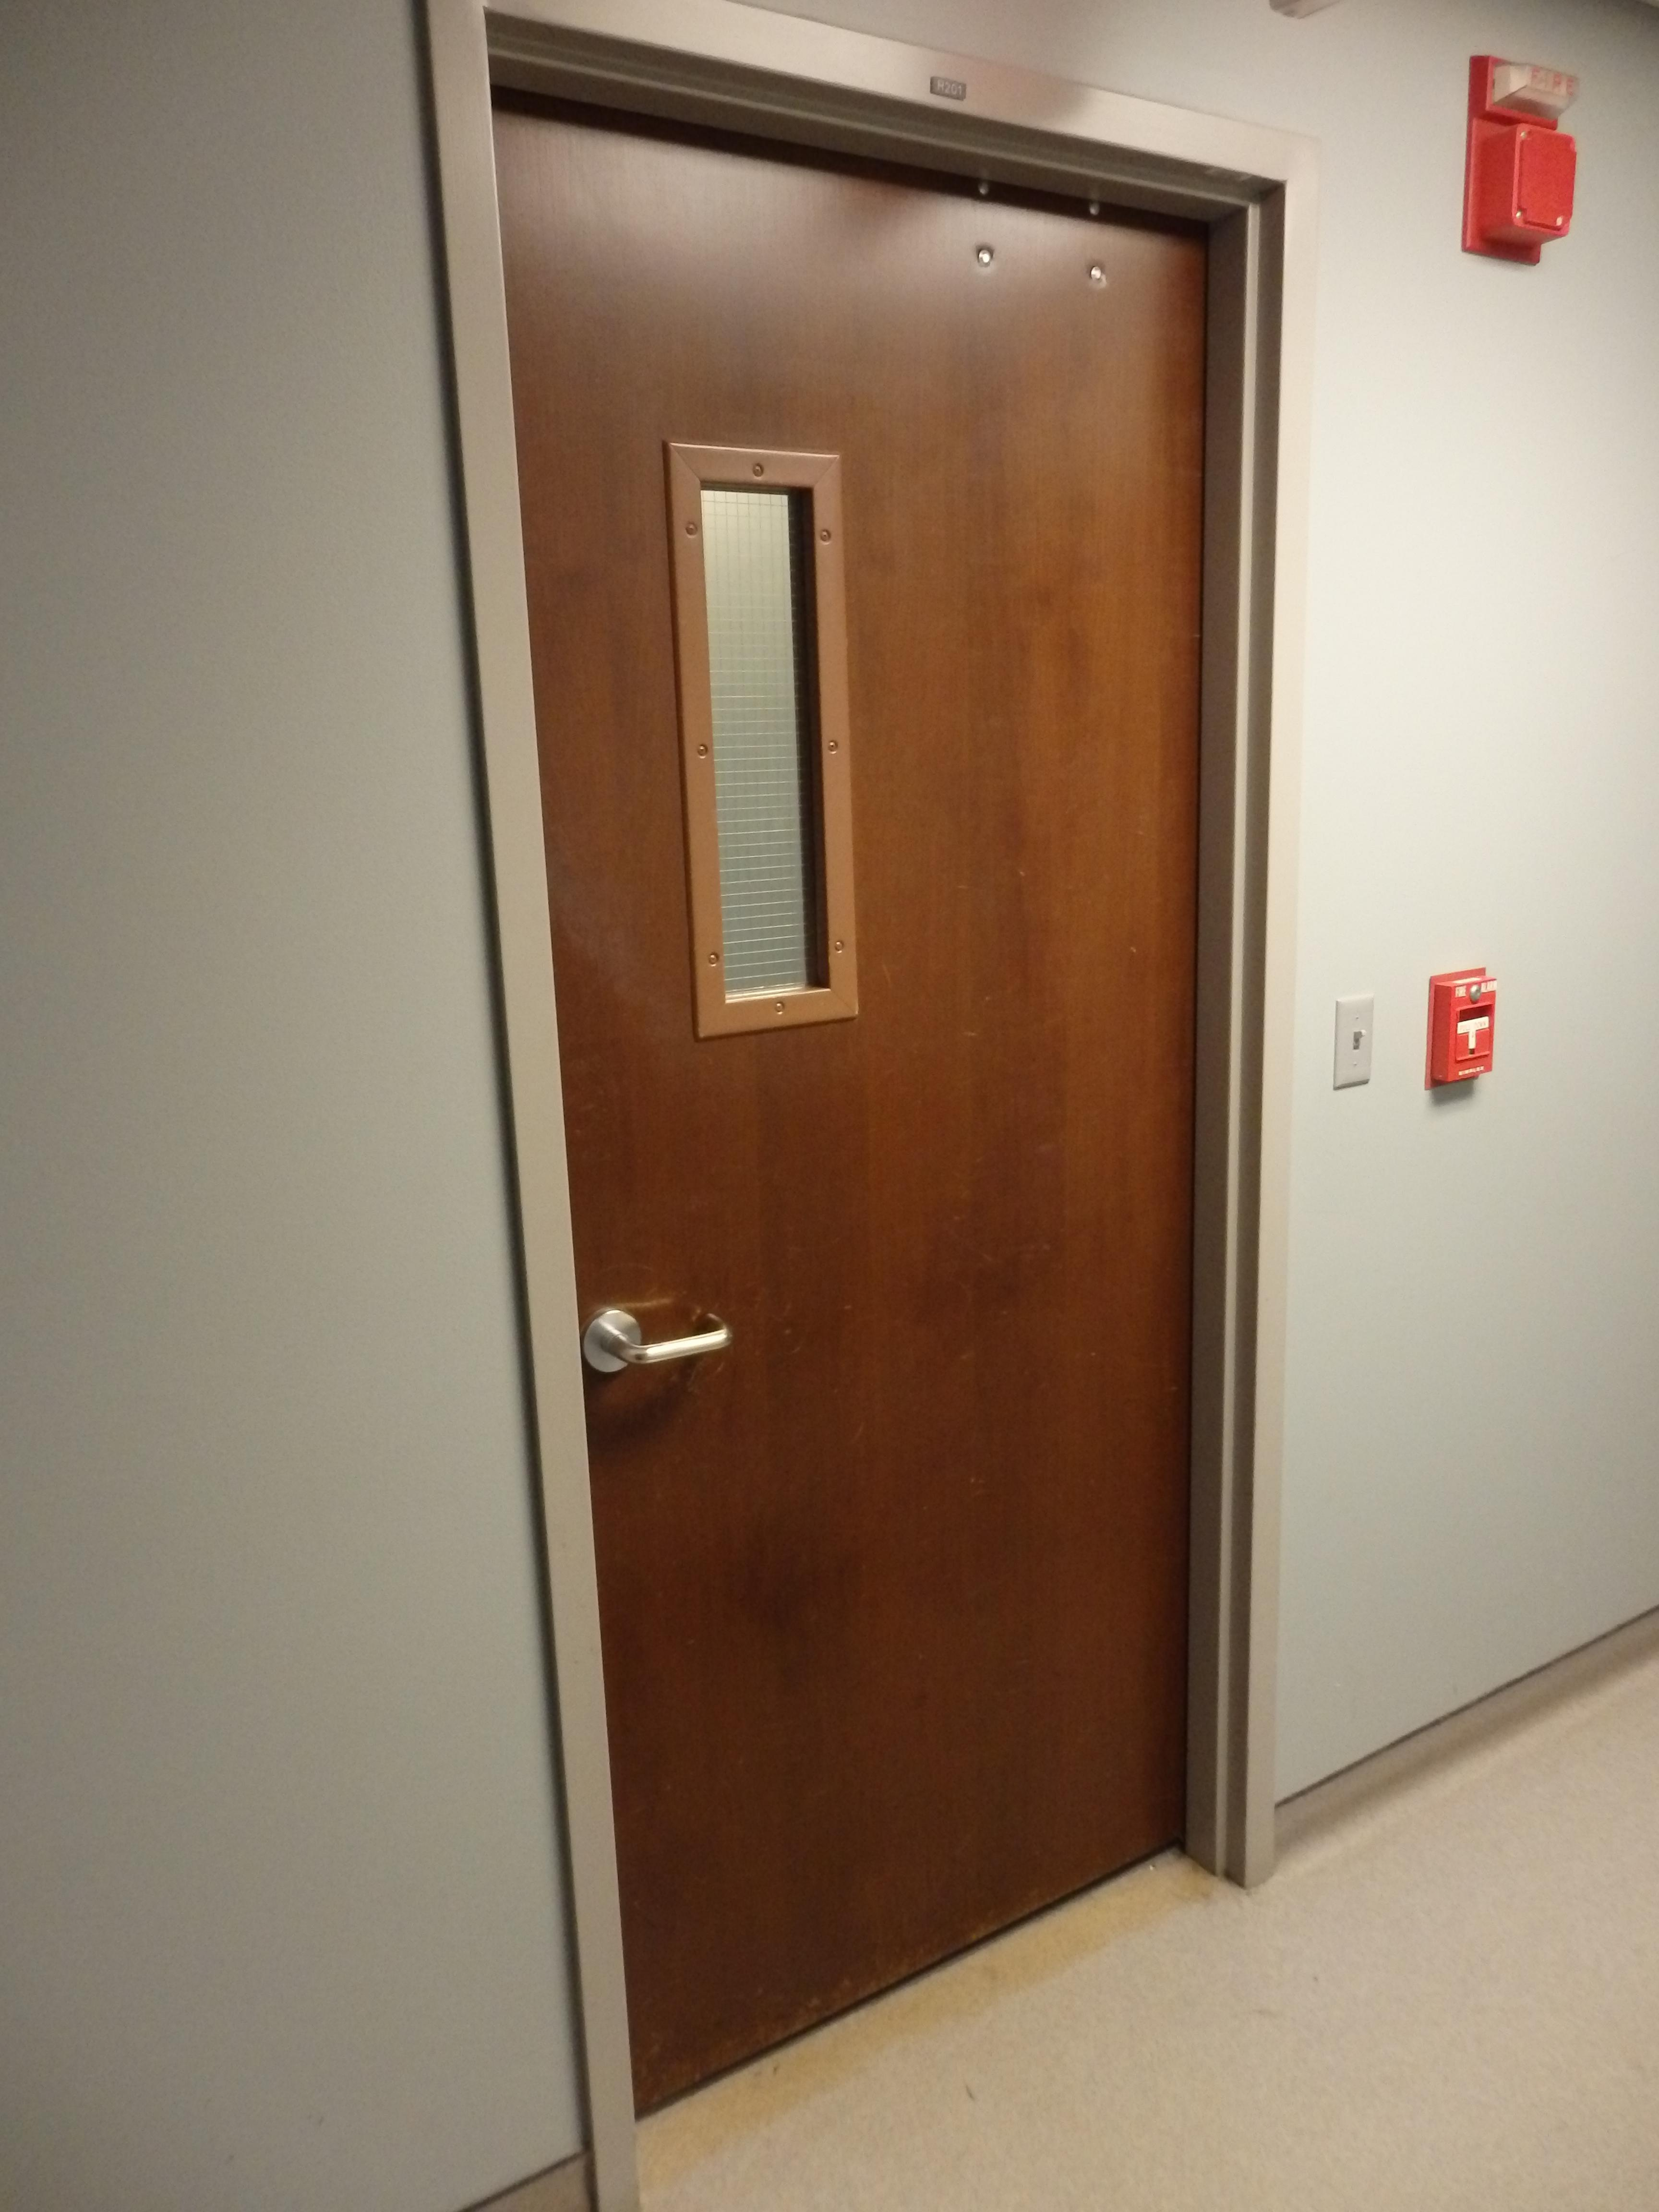handle: (599, 1282, 741, 1404)
